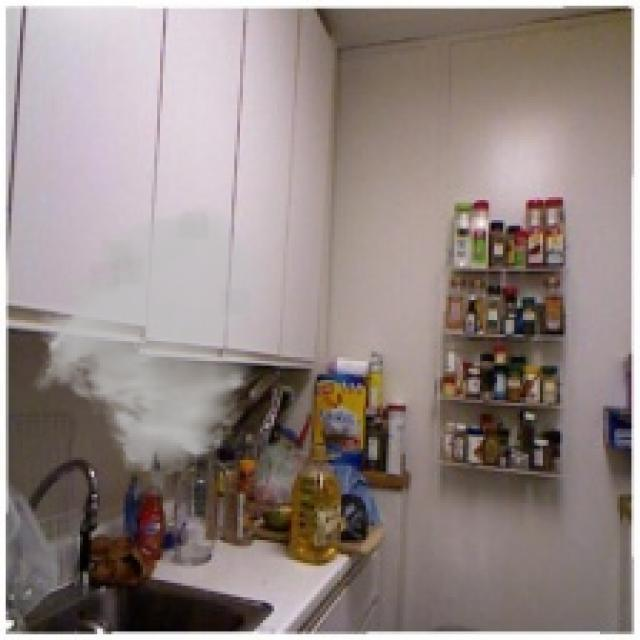Smoke: (32, 202, 268, 478)
